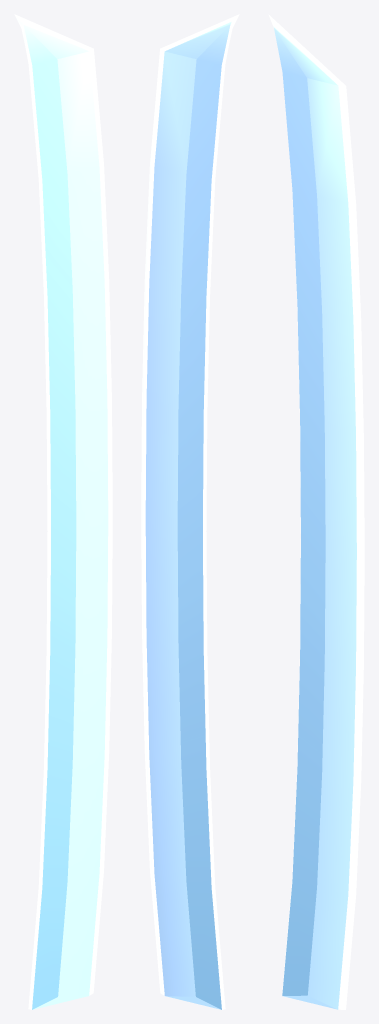
The model's file is steel_blade (5).glb.
3 renders of one model, left to right at view 1: azimuth 30°, elevation 25°; view 2: azimuth 150°, elevation 25°; view 3: azimuth 330°, elevation 25°, orthographic. The views are drawn at different scales.
Parts seen in each view (by area): view 1: steel_blade_steel.058; view 2: steel_blade_steel.058; view 3: steel_blade_steel.058.
Boxes of the visible parts, x1,y1,x2,y2 form: steel_blade_steel.058: (14, 14, 112, 1009); steel_blade_steel.058: (141, 14, 239, 1009); steel_blade_steel.058: (268, 14, 364, 1009).
Bounding box in the file's own units: 1.22 × 11.77 × 0.0749.
1 material, 1 textured.
